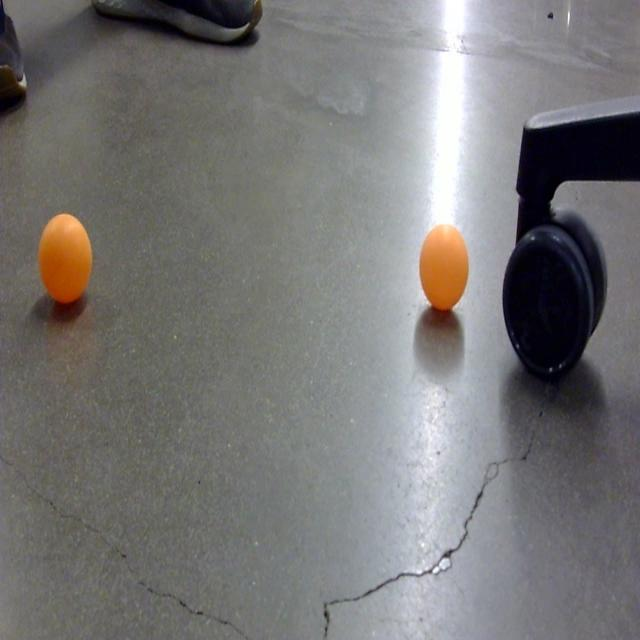ball: (36, 210, 94, 310), (418, 221, 470, 313)
